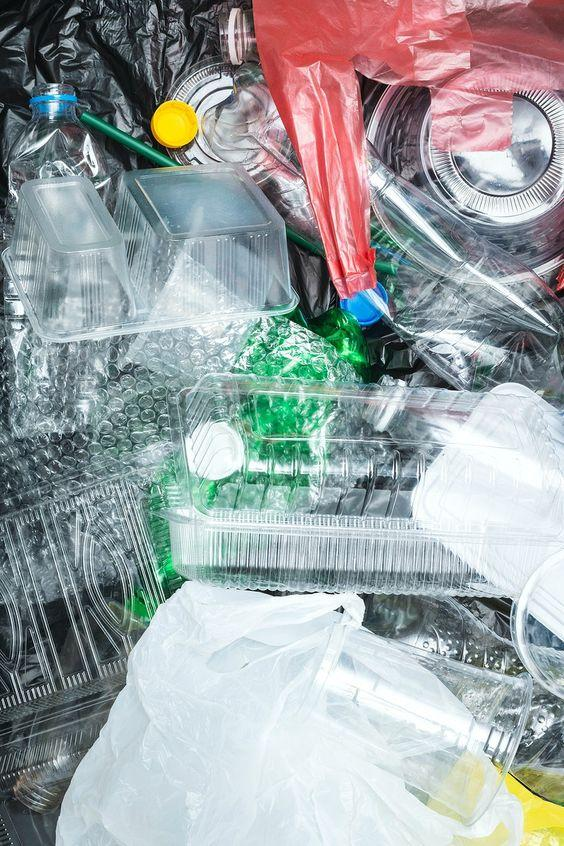HDPE: (50, 577, 527, 846), (251, 0, 564, 299), (148, 99, 200, 151), (337, 279, 388, 325)
LDPE: (0, 322, 364, 479)
PETE: (136, 374, 564, 599), (0, 444, 161, 846), (339, 130, 564, 392), (0, 165, 301, 343), (309, 623, 533, 831), (367, 67, 564, 283), (11, 70, 110, 199)
